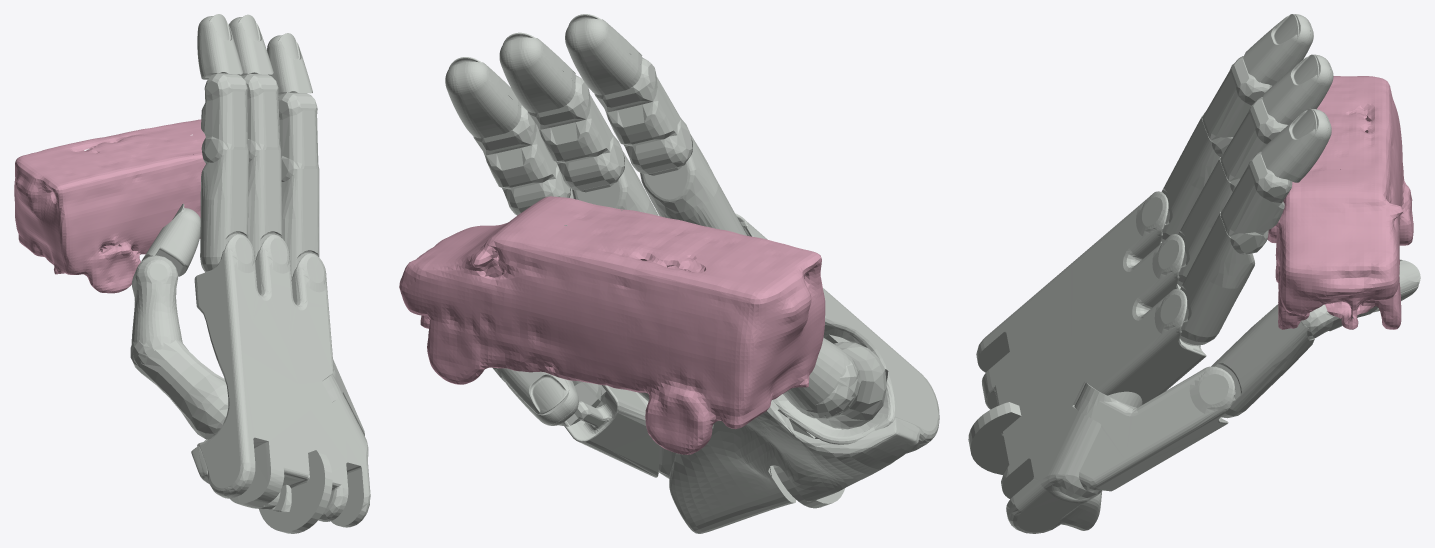
3 renders of one model, left to right at view 1: azimuth 30°, elevation 25°; view 2: azimuth 150°, elevation 25°; view 3: azimuth 270°, elevation 25°, orthographic. The views are drawn at different scales.
Parts seen in each view (by area): view 1: hand, world; view 2: hand, world; view 3: hand, world.
Boxes of the visible parts, <box> form: hand: <box>130,14,370,533</box>; world: <box>14,119,205,293</box>; hand: <box>445,14,939,533</box>; world: <box>399,196,825,454</box>; hand: <box>968,14,1420,533</box>; world: <box>1267,76,1413,329</box>.
Size of the model in its own units: 0.1317 by 0.2006 by 0.1615.
